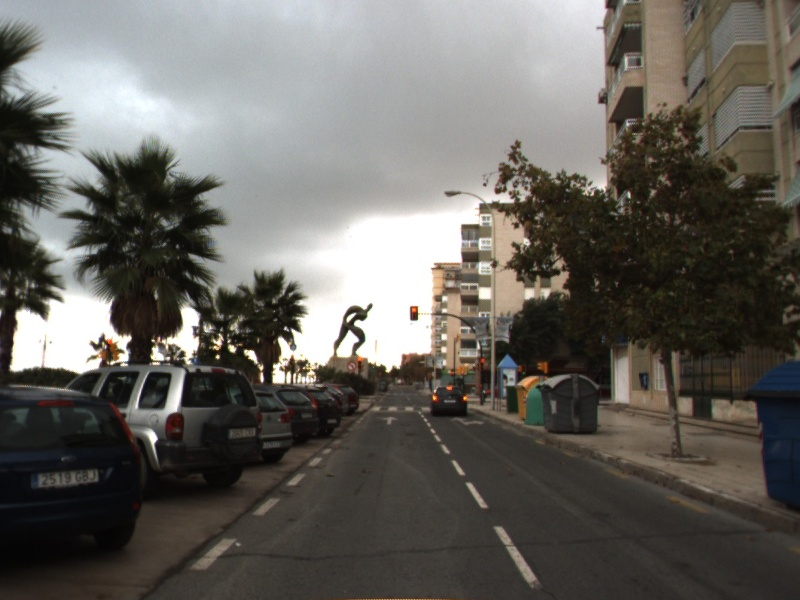STRAIGHT: (380, 414, 400, 426)
STRAIGHT_RIGHT: (449, 414, 486, 427)
